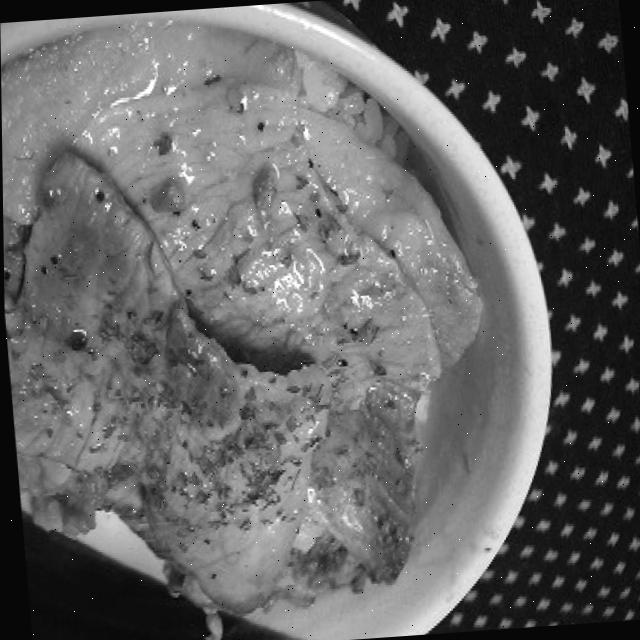猪肉菜式: (0, 0, 507, 640)
